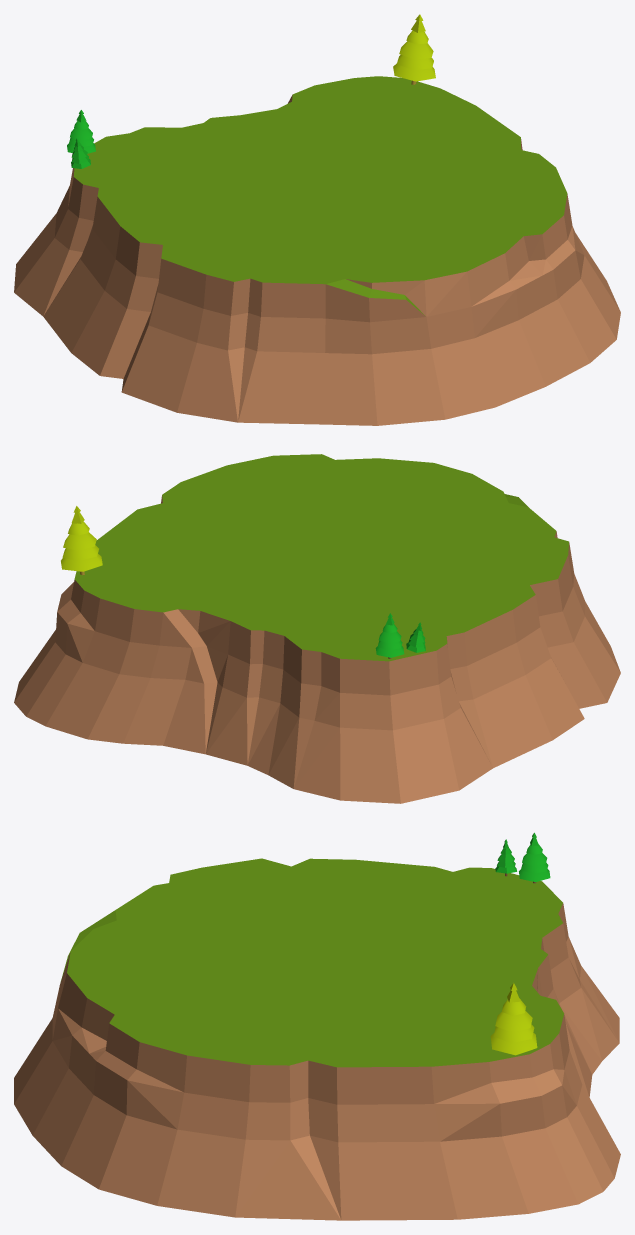
The model's file is Islands_17.fbx.
The picture shows the model from 3 angles, top to bottom: view 1: azimuth 30°, elevation 25°; view 2: azimuth 150°, elevation 25°; view 3: azimuth 270°, elevation 25°; orthographic projection. The views are drawn at different scales.
Visible parts, largest first — view 1: Islands_17; view 2: Islands_17; view 3: Islands_17.
Part boxes in pixels (bbox=[...]): Islands_17: bbox=[14, 14, 620, 425]; Islands_17: bbox=[14, 454, 620, 803]; Islands_17: bbox=[14, 832, 620, 1220].
Bounding box in the file's own units: 7837 × 2900 × 7833.
